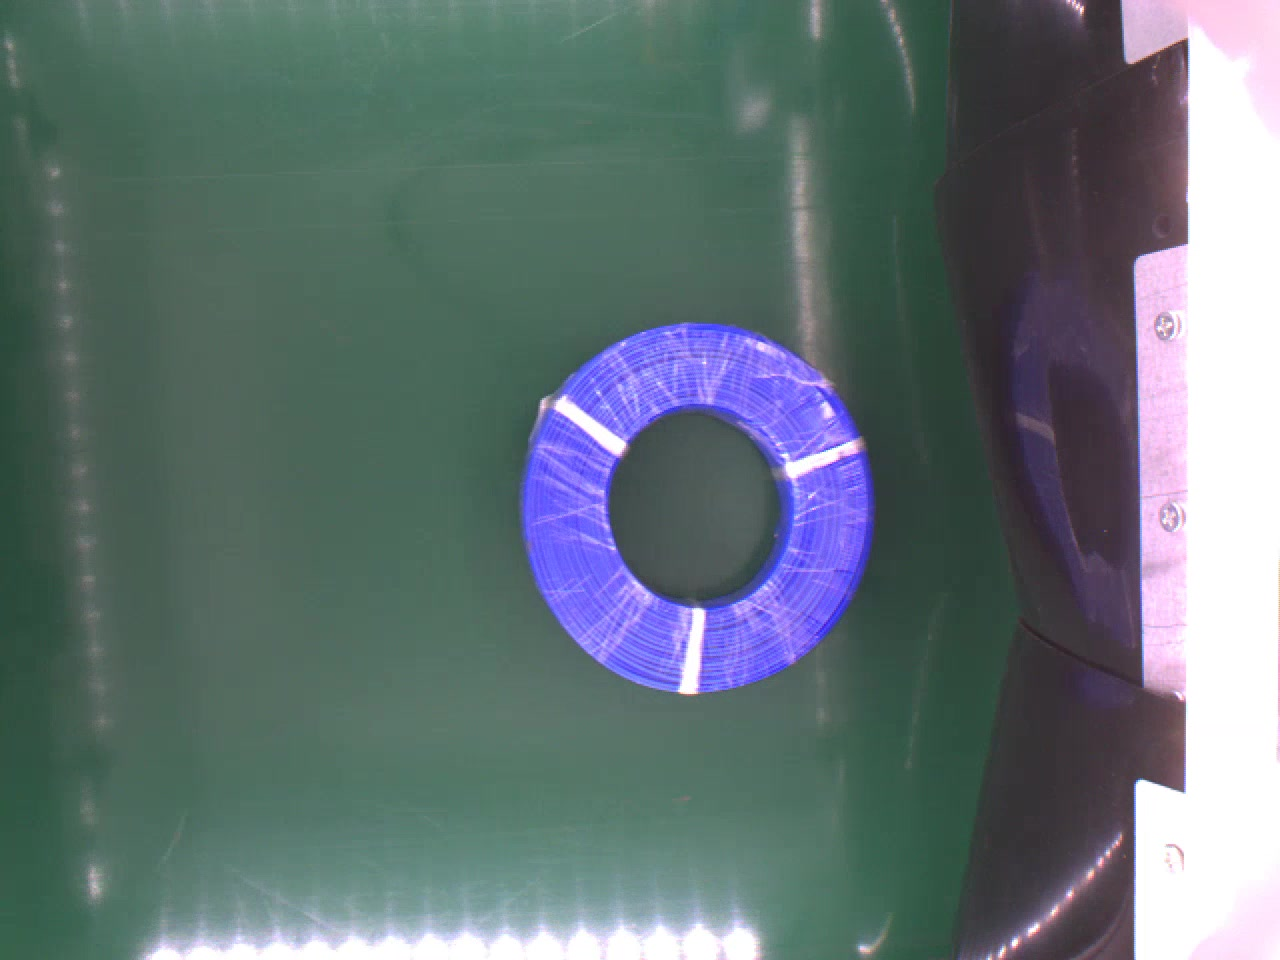blue: (522, 316, 878, 707)
